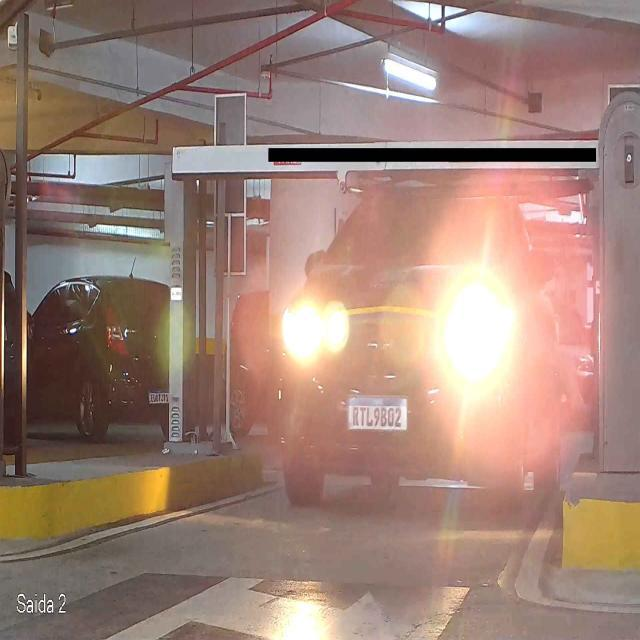mercosul_plate: (344, 392, 409, 433)
